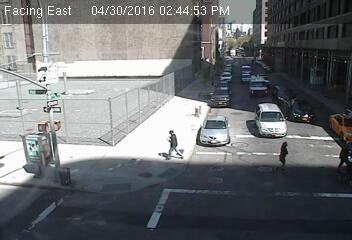neg: (178, 81, 204, 115), (93, 90, 113, 116), (206, 112, 225, 138), (23, 129, 41, 154), (99, 178, 116, 200), (201, 177, 216, 197), (308, 62, 322, 80), (253, 76, 265, 92)
pos: (268, 138, 294, 173), (158, 125, 184, 160), (332, 139, 351, 173)
